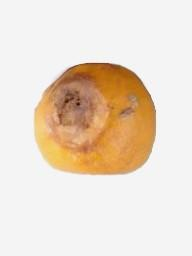Unripe: (35, 63, 157, 177)
